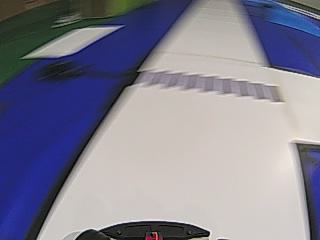CrossWalk: (128, 65, 290, 106)
